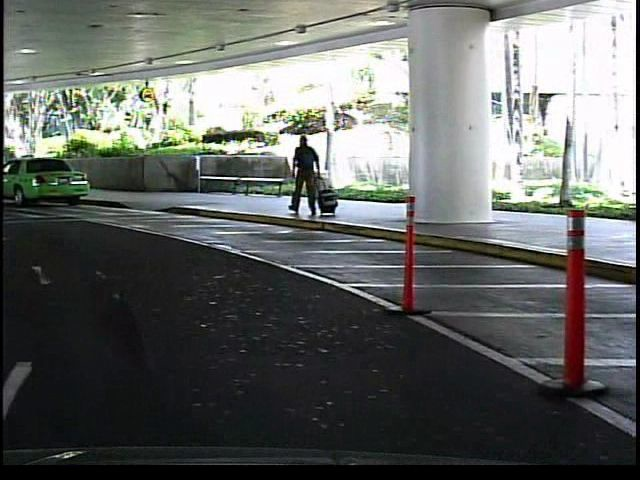person: (286, 126, 325, 222)
